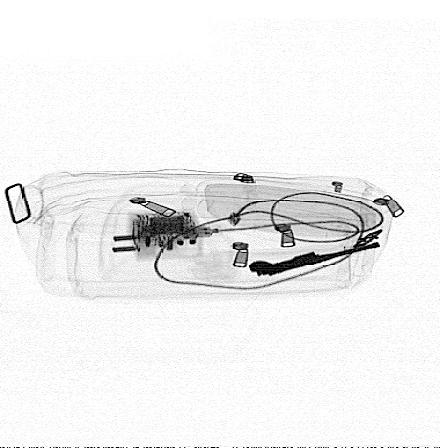Gun: (249, 241, 381, 275)
